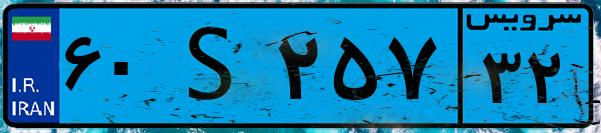0: (110, 28, 158, 98)
2: (270, 28, 330, 110), (525, 38, 570, 115)
3: (475, 38, 525, 113)
5: (330, 28, 385, 110)
6: (57, 26, 110, 100)
7: (385, 28, 445, 110)
S: (158, 12, 270, 120)
